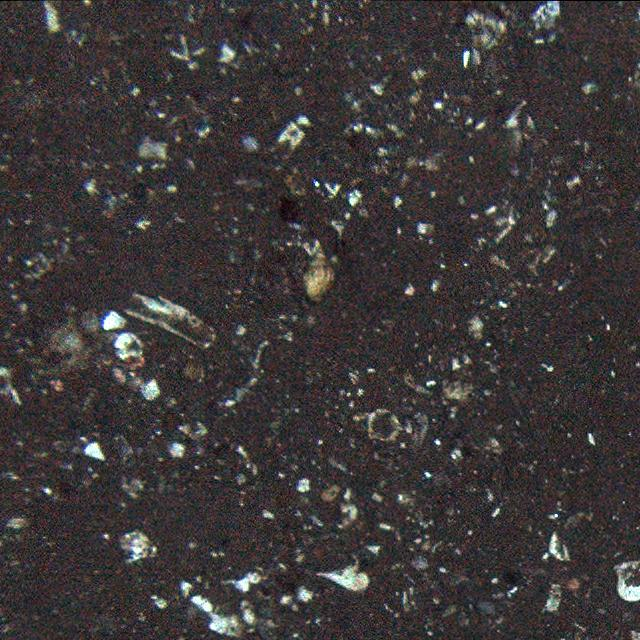whelk: (302, 241, 336, 305)
